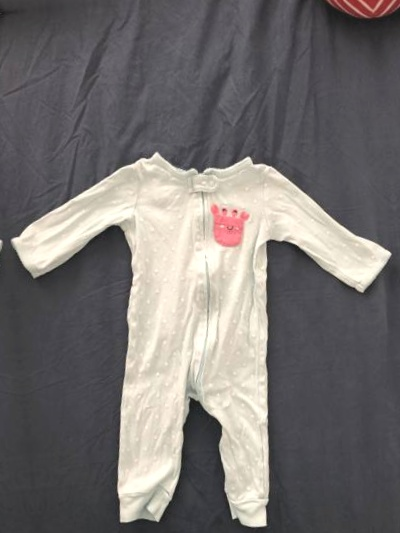Body: (2, 110, 400, 533), (0, 151, 35, 533), (394, 67, 400, 515)
